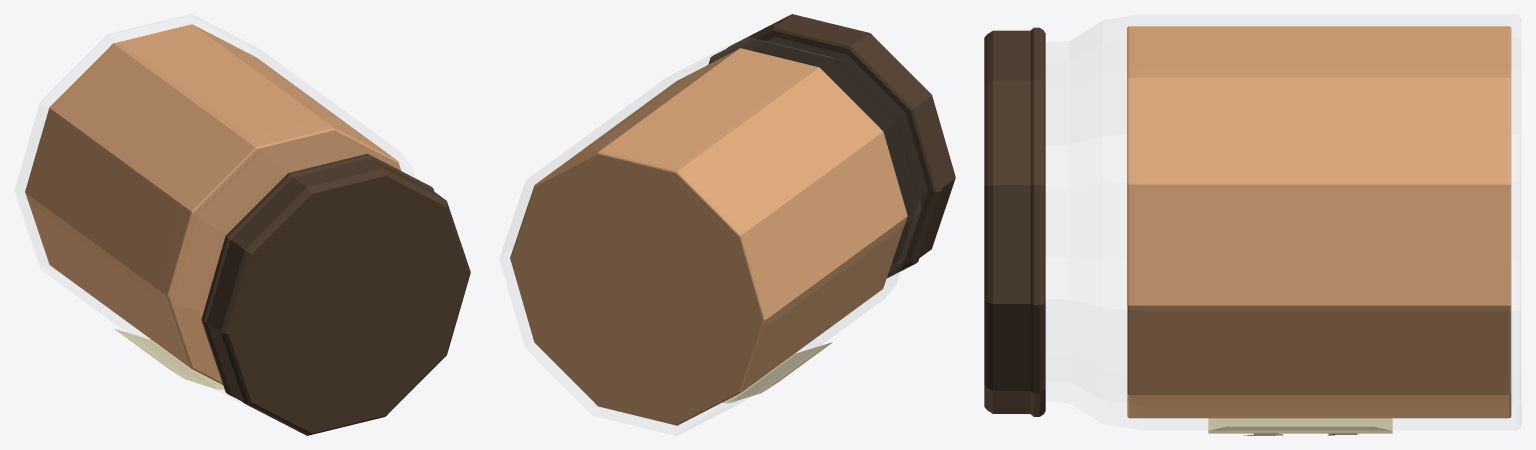
Rendered from peanut_butter_jar.glb.
3 renders of one model, left to right at view 1: azimuth 30°, elevation 25°; view 2: azimuth 150°, elevation 25°; view 3: azimuth 270°, elevation 25°, orthographic. The views are drawn at different scales.
Visible parts, largest first — view 1: peanut_butter_jar; view 2: peanut_butter_jar; view 3: peanut_butter_jar.
Part boxes in pixels (left/top/right/bottom): peanut_butter_jar: left=15, top=14, right=470, bottom=435; peanut_butter_jar: left=500, top=14, right=955, bottom=435; peanut_butter_jar: left=984, top=14, right=1520, bottom=435.
Bounding box in the file's own units: 0.082 × 0.0807 × 0.105.
